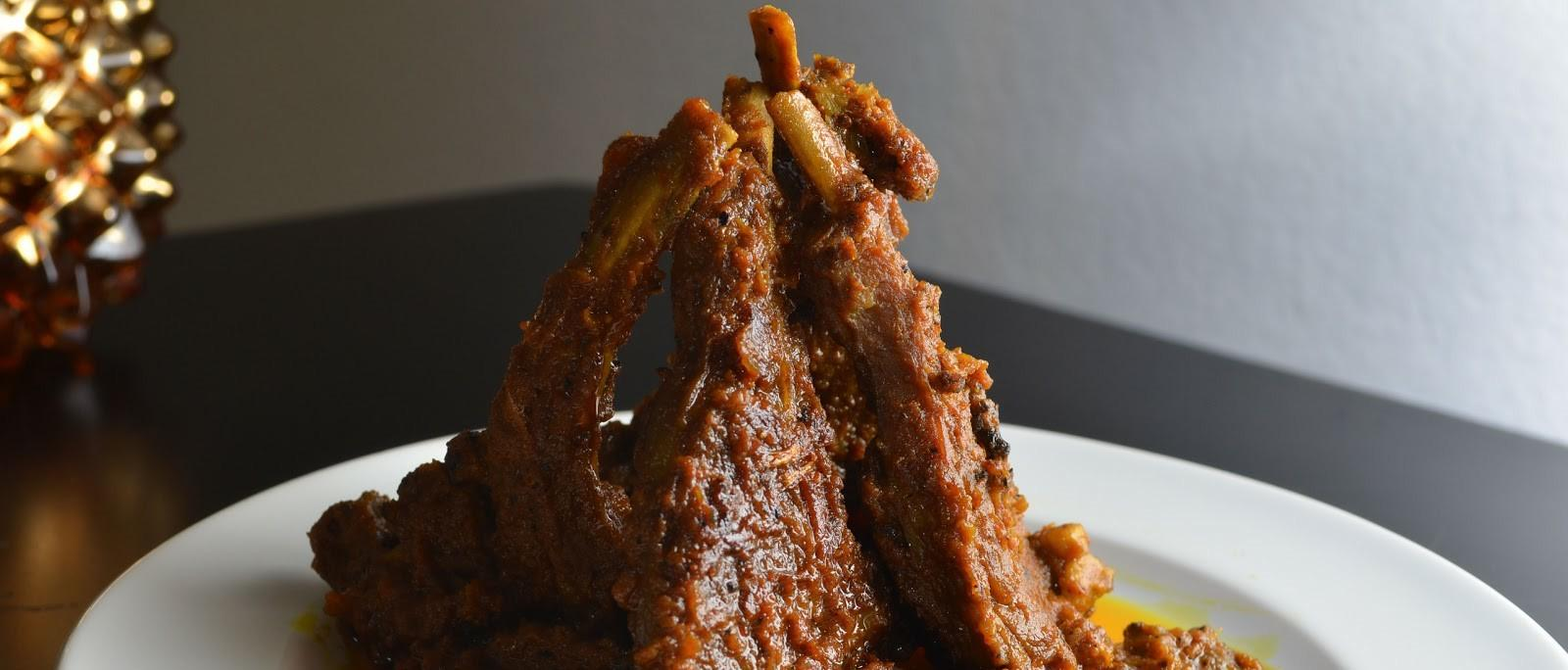MuttonCurry: (308, 0, 1258, 670)
